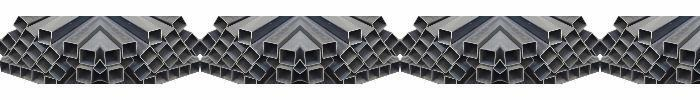pipe: (334, 63, 351, 81), (340, 46, 357, 64), (249, 63, 266, 81), (449, 63, 466, 81), (134, 63, 151, 81), (534, 63, 551, 81), (49, 63, 66, 81), (649, 63, 666, 81), (243, 46, 260, 64), (443, 46, 460, 64), (140, 46, 157, 64), (540, 46, 557, 64), (43, 46, 60, 64), (643, 46, 660, 64), (347, 56, 364, 73), (236, 56, 253, 73), (436, 56, 453, 73), (147, 56, 164, 73), (547, 56, 564, 73), (36, 56, 53, 73), (636, 56, 653, 73), (358, 43, 374, 61), (365, 29, 381, 47), (226, 43, 242, 61), (426, 43, 442, 61), (158, 43, 174, 61), (558, 43, 574, 61), (26, 43, 42, 61), (626, 43, 642, 61), (219, 29, 235, 47), (419, 29, 435, 47), (165, 29, 181, 47), (565, 29, 581, 47), (19, 29, 35, 47), (619, 29, 635, 47), (305, 49, 321, 66), (279, 49, 295, 66), (479, 49, 495, 66), (105, 49, 121, 66), (505, 49, 521, 66), (79, 49, 95, 66), (679, 49, 695, 66), (308, 67, 323, 84), (372, 39, 387, 56), (277, 67, 292, 84), (477, 67, 492, 84), (108, 67, 123, 84), (508, 67, 523, 84), (77, 67, 92, 84), (677, 67, 692, 84), (213, 39, 228, 56), (413, 39, 428, 56), (172, 39, 187, 56), (572, 39, 587, 56), (13, 39, 28, 56), (613, 39, 628, 56), (384, 33, 399, 49), (201, 33, 216, 49), (401, 33, 416, 49), (184, 33, 199, 49), (584, 33, 599, 49), (1, 33, 16, 49), (601, 33, 616, 49), (323, 41, 337, 58), (372, 16, 386, 33), (263, 41, 277, 58), (463, 41, 477, 58), (123, 41, 137, 58), (523, 41, 537, 58), (63, 41, 77, 58), (663, 41, 677, 58), (214, 16, 228, 33), (414, 16, 428, 33), (172, 16, 186, 33), (572, 16, 586, 33), (14, 16, 28, 33), (614, 16, 628, 33), (348, 29, 362, 45), (378, 48, 392, 64), (238, 29, 252, 45), (438, 29, 452, 45), (148, 29, 162, 45), (548, 29, 562, 45), (38, 29, 52, 45), (638, 29, 652, 45), (208, 48, 222, 64), (408, 48, 422, 64), (178, 48, 192, 64), (578, 48, 592, 64), (8, 48, 22, 64), (608, 48, 622, 64), (364, 53, 378, 68), (222, 53, 236, 68), (422, 53, 436, 68), (164, 53, 178, 68), (564, 53, 578, 68), (22, 53, 36, 68), (622, 53, 636, 68), (356, 70, 367, 83), (233, 70, 244, 83), (433, 70, 444, 83), (156, 70, 167, 83), (556, 70, 567, 83), (33, 70, 44, 83), (633, 70, 644, 83), (369, 67, 379, 81), (221, 67, 231, 81), (421, 67, 431, 81), (169, 67, 179, 81), (569, 67, 579, 81), (21, 67, 31, 81), (621, 67, 631, 81), (380, 65, 390, 78), (210, 65, 220, 78), (410, 65, 420, 78), (180, 65, 190, 78), (580, 65, 590, 78), (10, 65, 20, 78), (610, 65, 620, 78), (392, 41, 400, 57), (200, 41, 208, 57), (400, 41, 408, 57), (192, 41, 200, 57), (592, 41, 600, 57), (0, 41, 8, 57), (600, 41, 608, 57), (391, 61, 400, 74), (200, 61, 209, 74), (400, 61, 409, 74), (191, 61, 200, 74), (591, 61, 600, 74), (0, 61, 9, 74), (600, 61, 609, 74)
